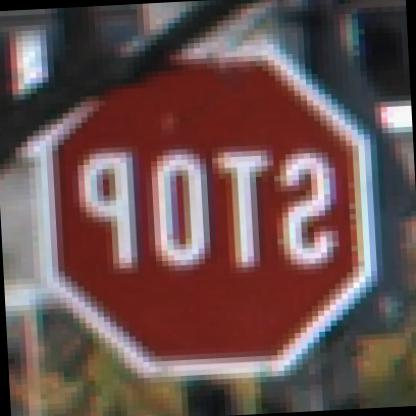stop: (12, 20, 404, 398)
